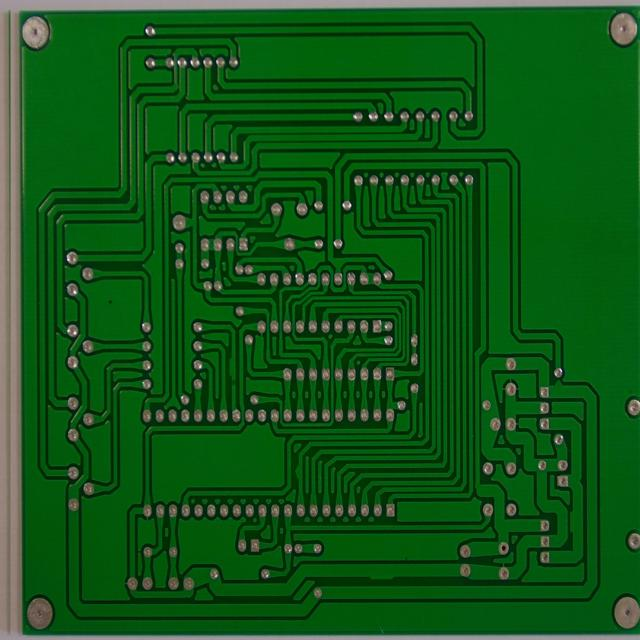spur: (366, 566, 396, 583), (566, 507, 578, 536), (290, 462, 302, 481), (227, 352, 235, 380), (552, 376, 566, 392)
